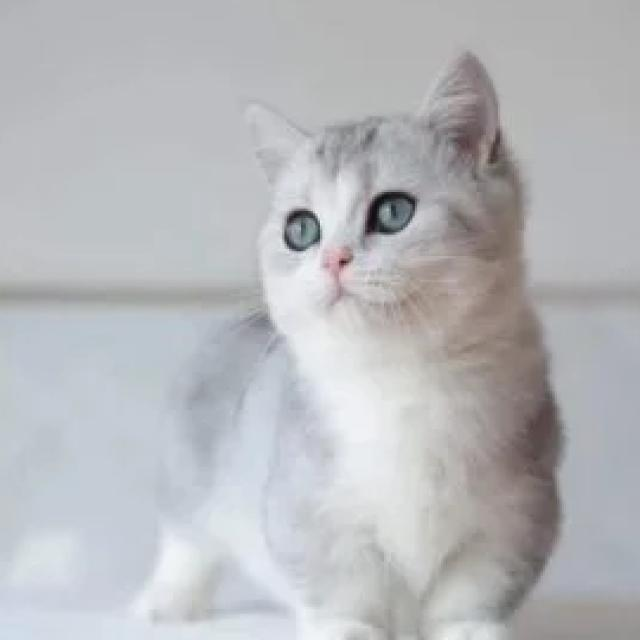Munchkin: (128, 42, 566, 640)
